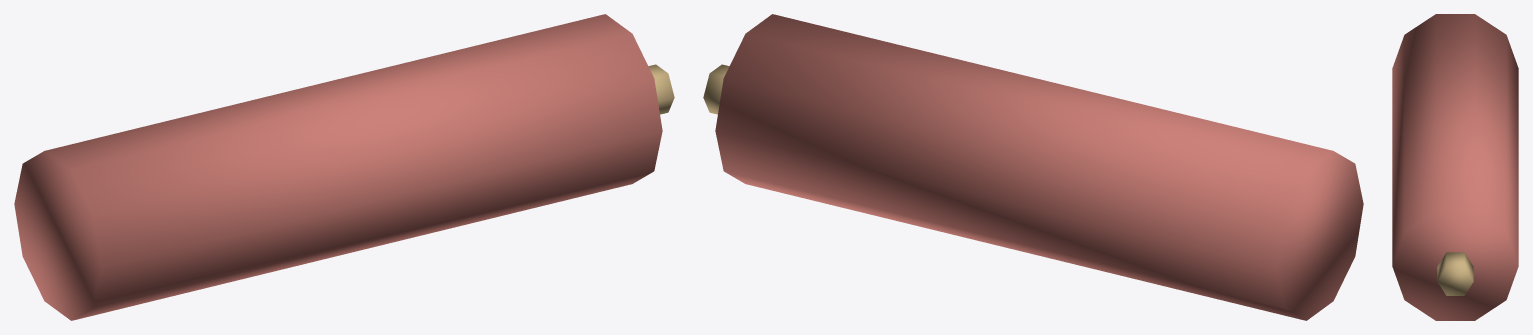
The model's file is sausage.glb.
3 views of the same model, side by side, from view 1: azimuth 30°, elevation 25°; view 2: azimuth 150°, elevation 25°; view 3: azimuth 270°, elevation 25° (orthographic). The views are drawn at different scales.
Parts seen in each view (by area): view 1: Item; view 2: Item; view 3: Item.
Part boxes in pixels (left/top/right/bottom): Item: left=14, top=14, right=674, bottom=320; Item: left=703, top=14, right=1363, bottom=320; Item: left=1392, top=14, right=1518, bottom=320.
Bounding box in the file's own units: 0.28 × 0.0666 × 0.07.
